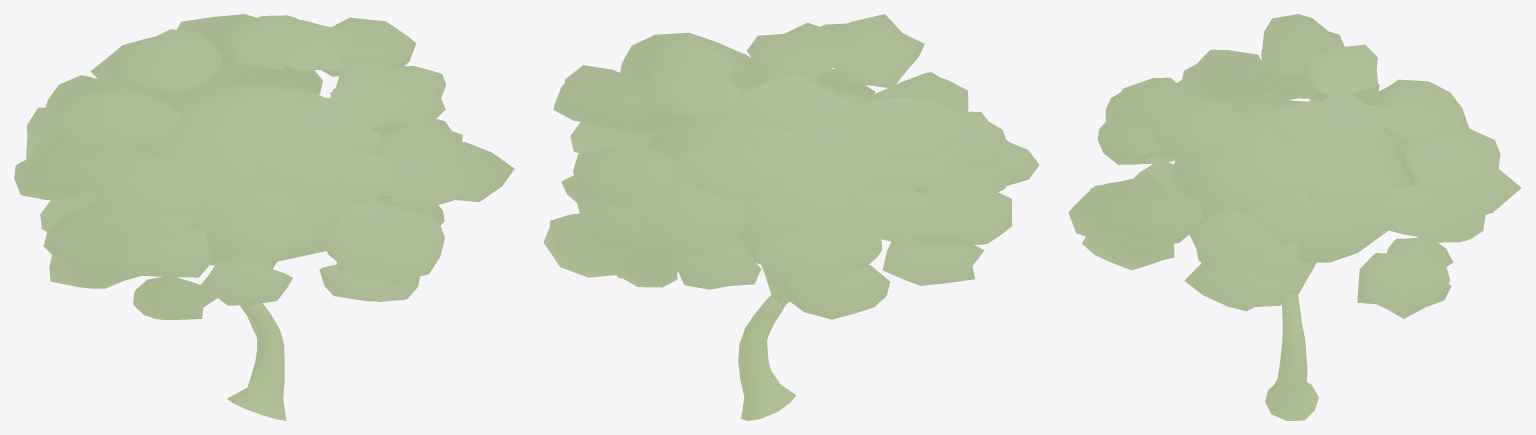
The model's file is Blender_Mesquite_1.glb.
3 renders of one model, left to right at view 1: azimuth 30°, elevation 25°; view 2: azimuth 150°, elevation 25°; view 3: azimuth 270°, elevation 25°, orthographic. The views are drawn at different scales.
Parts seen in each view (by area): view 1: Blender_Mesquite_1; view 2: Blender_Mesquite_1; view 3: Blender_Mesquite_1.
Boxes of the visible parts, x1,y1,x2,y2 form: Blender_Mesquite_1: (14, 14, 514, 420); Blender_Mesquite_1: (543, 14, 1039, 420); Blender_Mesquite_1: (1068, 14, 1520, 420).
Bounding box in the file's own units: 9.73 × 7.78 × 9.49.
